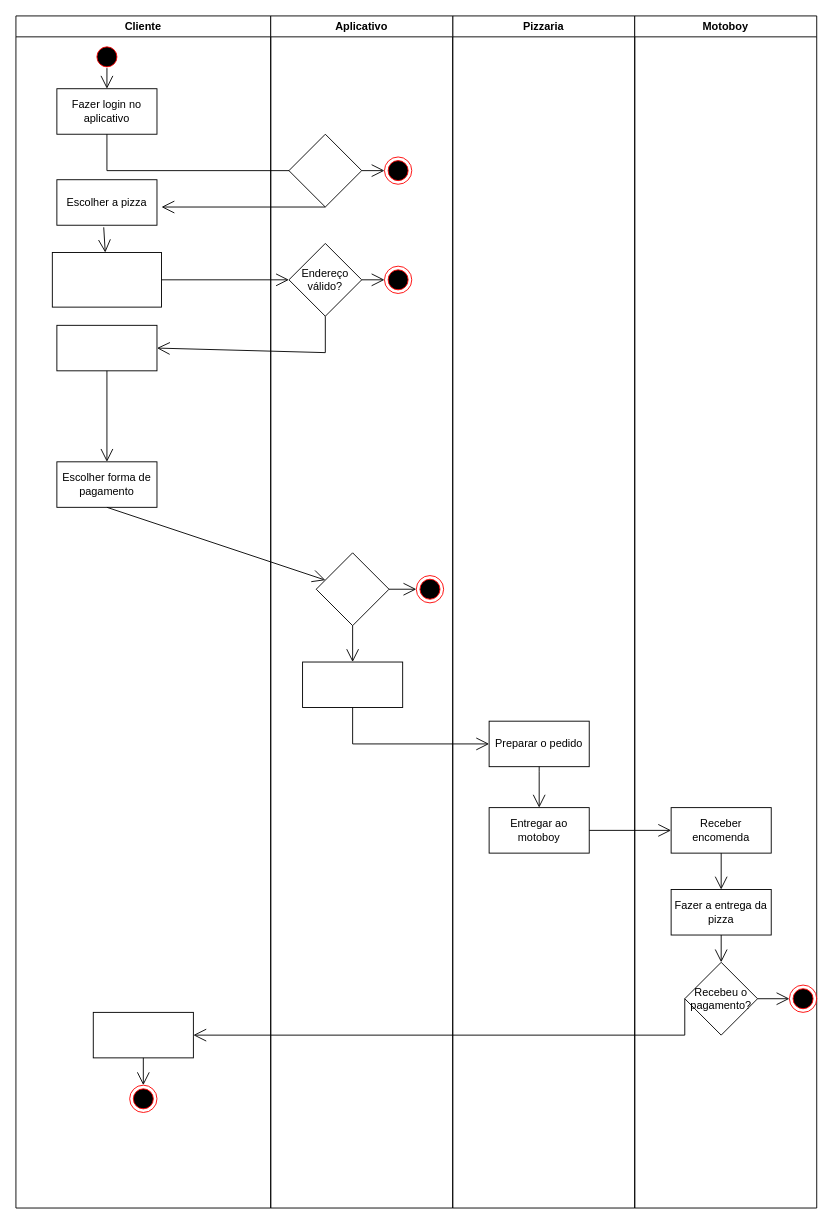
This 833x1224 diagram has some shape labels left out. The centre of each missing label's shape, as x and y in pixels:
Enviar o pedido para a pizzaria: (352,684)
Fazer pedido: (106,347)
Forma de pagamento selecionada?: (352,589)
Login válido?: (325,170)
Receber a pizza: (142,1034)
Selecionar endereço: (106,279)
